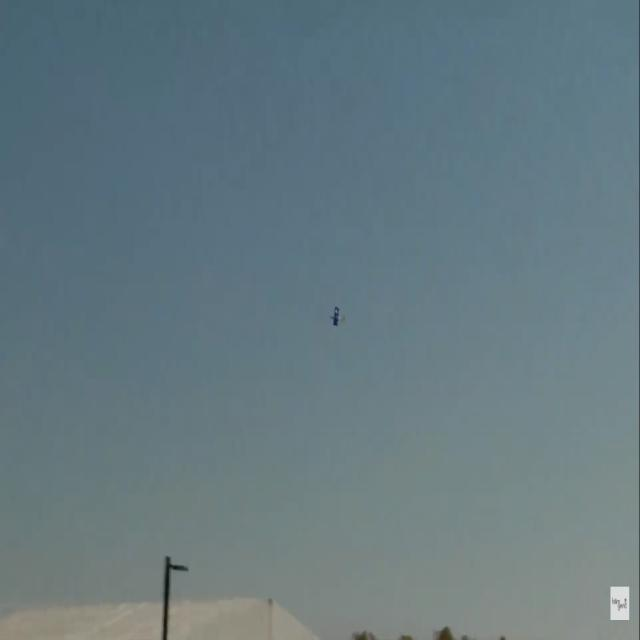iha: (329, 306, 346, 327)
